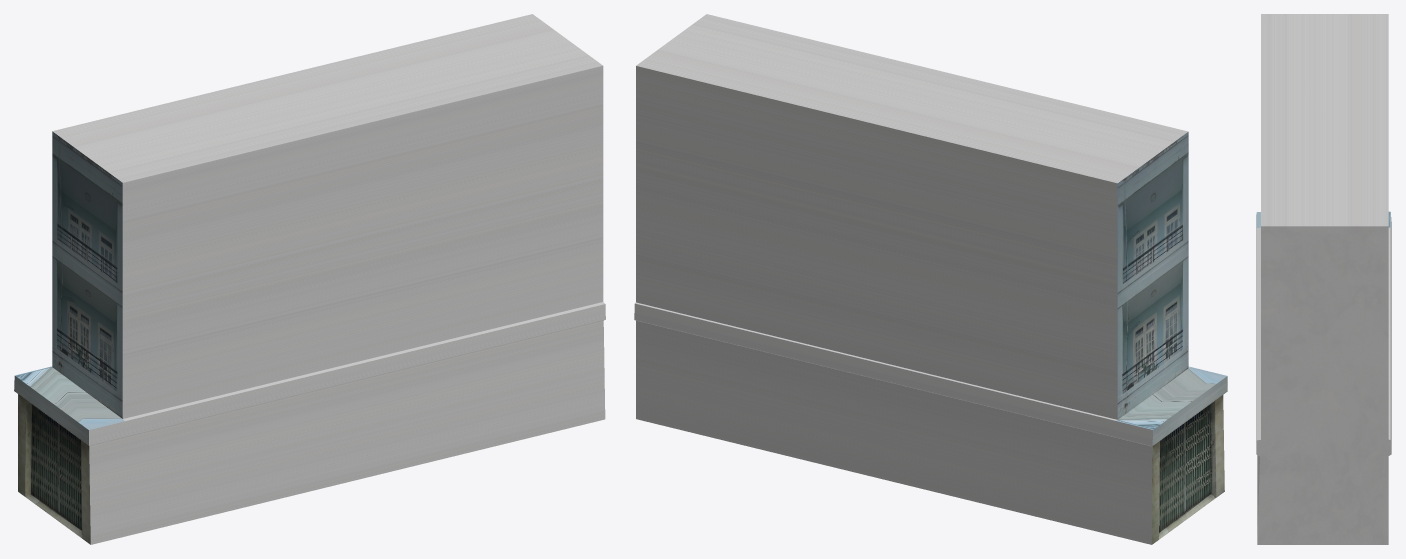
The model's file is RefHouse8.fbx.
The picture shows the model from 3 angles, left to right: view 1: azimuth 30°, elevation 25°; view 2: azimuth 150°, elevation 25°; view 3: azimuth 270°, elevation 25°; orthographic projection. The views are drawn at different scales.
Visible parts, largest first — view 1: ReferenceHouse8; view 2: ReferenceHouse8; view 3: ReferenceHouse8.
Part boxes in pixels (x1,y1,x2,y2): ReferenceHouse8: (14,14,605,544); ReferenceHouse8: (634,14,1227,544); ReferenceHouse8: (1256,14,1391,544).
Bounding box in the file's own units: 2076 × 1352 × 521.
Materials: 2 (2 with a texture image).
